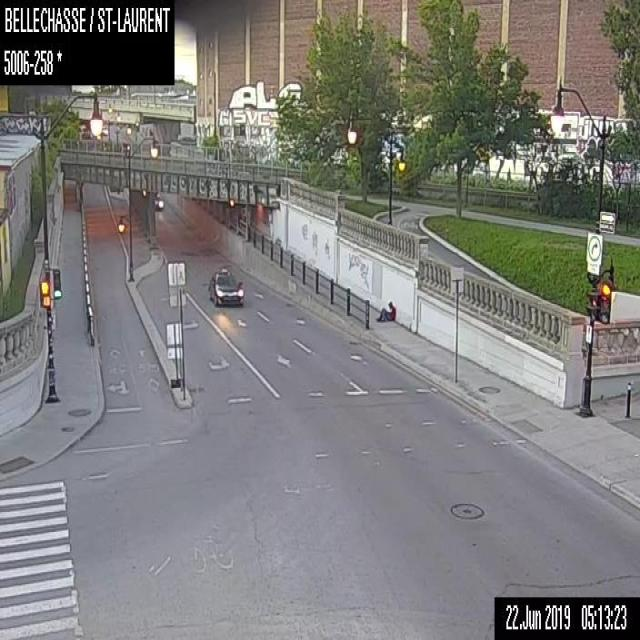pedestrian: (376, 300, 395, 321)
vehicle: (208, 268, 243, 306), (154, 192, 163, 209)
